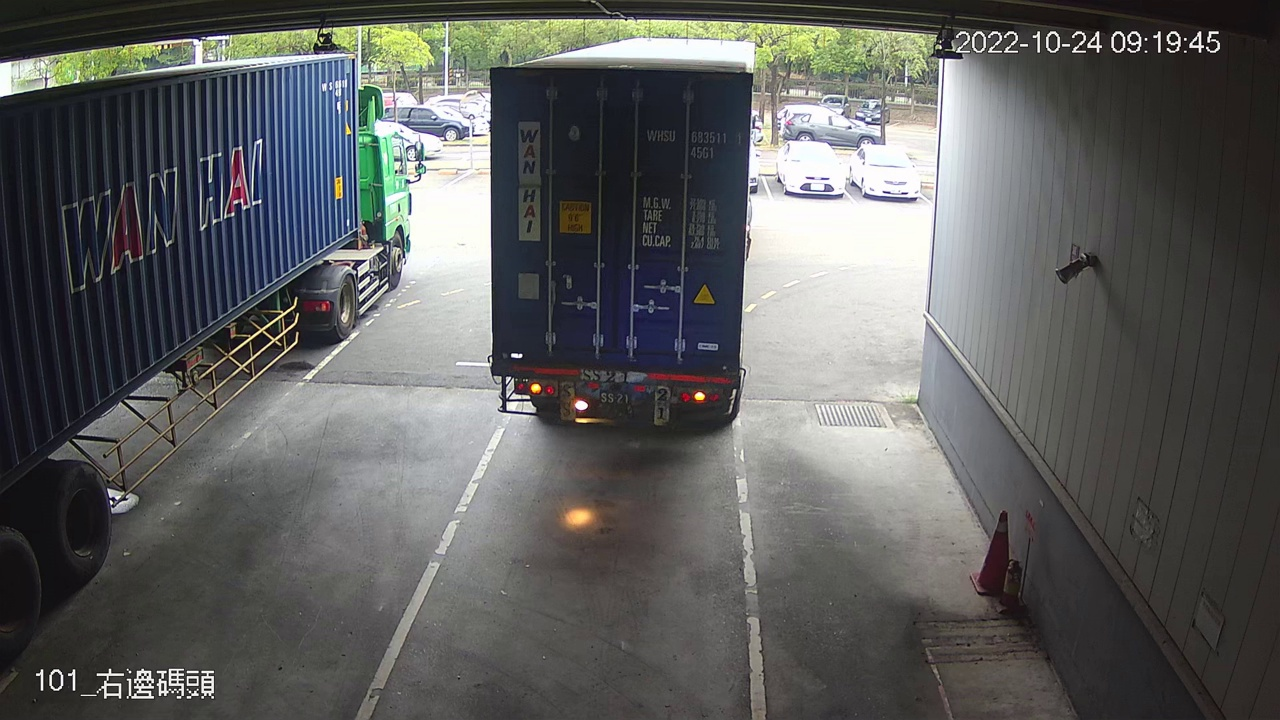container: (639, 118, 747, 167)
